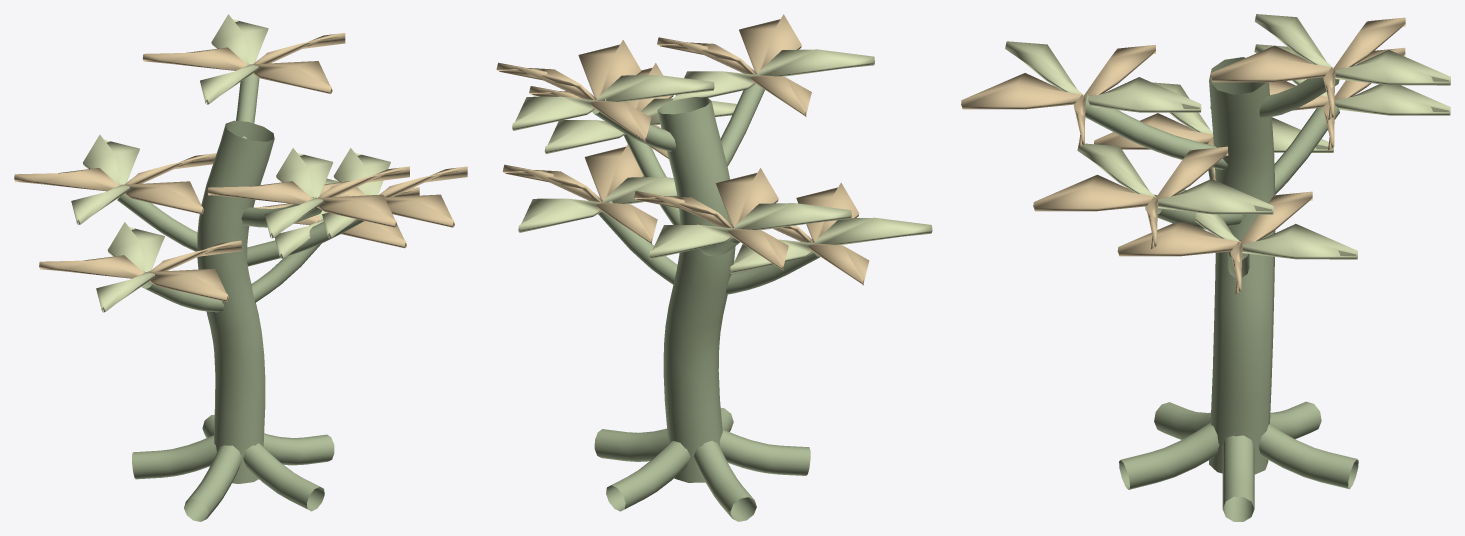
Rendered from bio_canopy_tree_01_far.glb.
3 renders of one model, left to right at view 1: azimuth 30°, elevation 25°; view 2: azimuth 150°, elevation 25°; view 3: azimuth 270°, elevation 25°, orthographic. The views are drawn at different scales.
Parts seen in each view (by area): view 1: Buttressed trunk, Broad canopy leaf.020, Broad canopy leaf.015, Broad canopy leaf.010, Broad canopy leaf.005, Broad canopy leaf.011, Broad canopy leaf.016, Broad canopy leaf.025, Broad canopy leaf.021, Broad canopy leaf.006, Broad canopy leaf.026, Broad canopy leaf (+1 smaller); view 2: Buttressed trunk, Broad canopy leaf.015, Broad canopy leaf.005, Broad canopy leaf.010, Broad canopy leaf, Broad canopy leaf.016, Broad canopy leaf.006, Broad canopy leaf.011, Broad canopy leaf.021, Broad canopy leaf.001, Broad canopy leaf.020, Broad canopy leaf.026 (+1 smaller); view 3: Buttressed trunk, Broad canopy leaf.015, Broad canopy leaf.025, Broad canopy leaf.010, Broad canopy leaf, Broad canopy leaf.016, Broad canopy leaf.026, Broad canopy leaf.011, Broad canopy leaf.001, Broad canopy leaf.006, Broad canopy leaf.021, Broad canopy leaf.005 (+1 smaller).
Part boxes in pixels (left/top/right/bottom): Buttressed trunk: left=117, top=74, right=364, bottom=521; Broad canopy leaf.020: left=39, top=240, right=241, bottom=301; Broad canopy leaf.015: left=142, top=33, right=345, bottom=93; Broad canopy leaf.010: left=207, top=166, right=409, bottom=227; Broad canopy leaf.005: left=14, top=153, right=216, bottom=214; Broad canopy leaf.011: left=264, top=148, right=333, bottom=238; Broad canopy leaf.016: left=200, top=14, right=268, bottom=104; Broad canopy leaf.025: left=320, top=166, right=467, bottom=227; Broad canopy leaf.021: left=96, top=222, right=164, bottom=312; Broad canopy leaf.006: left=71, top=134, right=139, bottom=224; Broad canopy leaf.026: left=322, top=148, right=390, bottom=238; Broad canopy leaf: left=254, top=187, right=419, bottom=248; Buttressed trunk: left=592, top=73, right=820, bottom=521; Broad canopy leaf.015: left=496, top=40, right=651, bottom=142; Broad canopy leaf.005: left=634, top=168, right=788, bottom=270; Broad canopy leaf.010: left=657, top=14, right=811, bottom=116; Broad canopy leaf: left=502, top=144, right=657, bottom=244; Broad canopy leaf.016: left=512, top=75, right=714, bottom=130; Broad canopy leaf.006: left=649, top=203, right=851, bottom=259; Broad canopy leaf.011: left=672, top=49, right=874, bottom=101; Broad canopy leaf.021: left=730, top=217, right=932, bottom=273; Broad canopy leaf.001: left=518, top=177, right=677, bottom=232; Broad canopy leaf.020: left=773, top=182, right=869, bottom=285; Broad canopy leaf.026: left=544, top=98, right=736, bottom=154; Buttressed trunk: left=1085, top=57, right=1358, bottom=521; Broad canopy leaf.015: left=1210, top=17, right=1405, bottom=119; Broad canopy leaf.025: left=1033, top=146, right=1228, bottom=249; Broad canopy leaf.010: left=961, top=44, right=1155, bottom=147; Broad canopy leaf: left=1117, top=191, right=1312, bottom=293; Broad canopy leaf.016: left=1254, top=14, right=1450, bottom=85; Broad canopy leaf.026: left=1077, top=143, right=1273, bottom=214; Broad canopy leaf.011: left=1005, top=41, right=1201, bottom=112; Broad canopy leaf.001: left=1177, top=189, right=1357, bottom=259; Broad canopy leaf.006: left=1254, top=44, right=1450, bottom=115; Broad canopy leaf.021: left=1152, top=82, right=1333, bottom=152; Broad canopy leaf.005: left=1210, top=47, right=1405, bottom=150.
Size of the model in its own units: 2.97 by 2.99 by 2.93.
